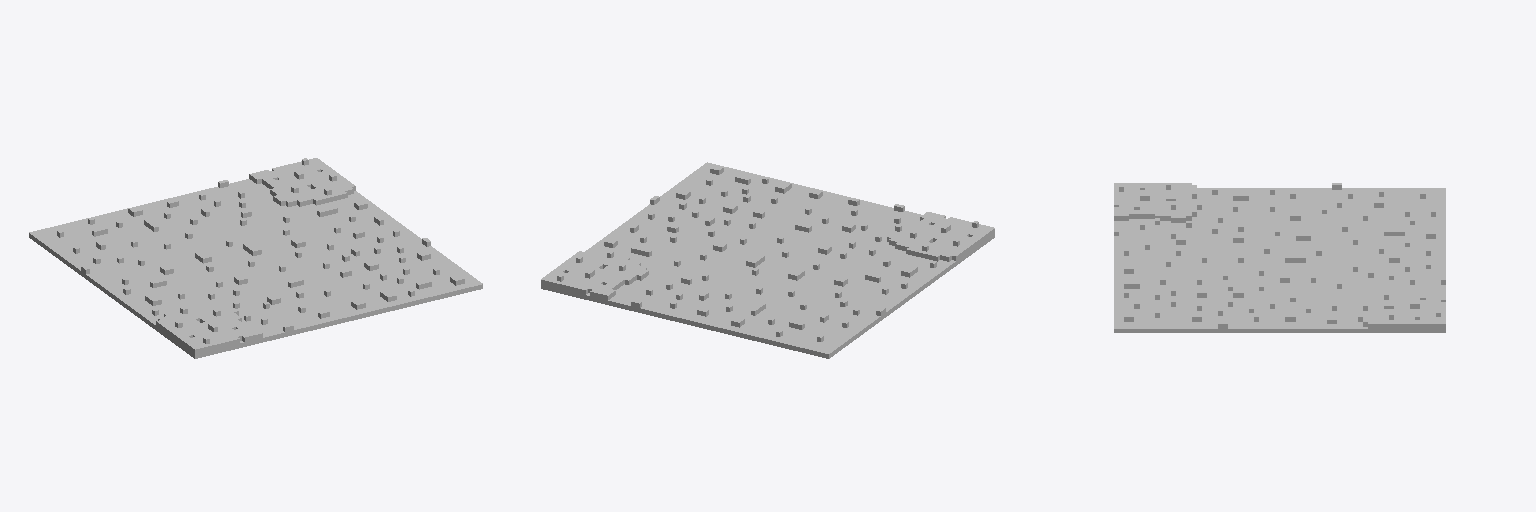
The model's file is EarthenPath4Fork_4.obj.
3 views of the same model, side by side, from view 1: azimuth 30°, elevation 25°; view 2: azimuth 150°, elevation 25°; view 3: azimuth 270°, elevation 25° (orthographic).
Visible parts, largest first — view 1: EarthenPath4Fork_4; view 2: EarthenPath4Fork_4; view 3: EarthenPath4Fork_4.
Boxes of the visible parts, x1=… form: EarthenPath4Fork_4: x1=29, y1=158, x2=482, y2=358; EarthenPath4Fork_4: x1=541, y1=162, x2=994, y2=358; EarthenPath4Fork_4: x1=1114, y1=183, x2=1445, y2=332.
Size of the model in its own units: 1 by 0.0469 by 1.